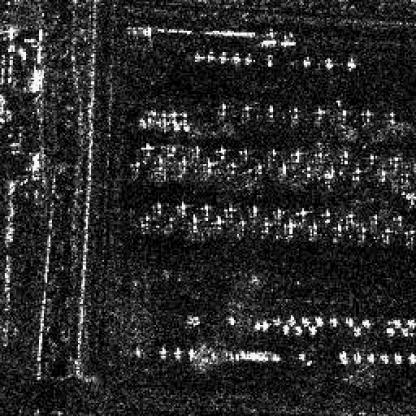airplane: (283, 219, 297, 239), (138, 143, 156, 156), (136, 213, 154, 226), (152, 158, 166, 174), (320, 166, 336, 180), (330, 223, 344, 239), (266, 102, 278, 120), (240, 104, 254, 119), (214, 146, 228, 161), (386, 154, 400, 169), (249, 202, 260, 220), (356, 223, 370, 237), (379, 228, 393, 242), (367, 151, 382, 164), (307, 223, 322, 236), (369, 211, 382, 226), (203, 160, 215, 176), (237, 218, 249, 234), (402, 229, 414, 245), (252, 162, 265, 176), (213, 213, 226, 227), (294, 205, 307, 219), (318, 208, 332, 221), (263, 52, 275, 67), (224, 203, 236, 218), (242, 52, 255, 65), (128, 158, 142, 170), (176, 158, 188, 172), (343, 212, 357, 224), (393, 214, 405, 228), (224, 315, 238, 327), (202, 202, 212, 218), (346, 57, 358, 70), (315, 108, 327, 121), (290, 148, 302, 161), (166, 144, 177, 158), (322, 56, 334, 68), (385, 110, 397, 122), (238, 150, 250, 162), (175, 202, 187, 214), (361, 108, 372, 121), (304, 164, 315, 177), (260, 219, 271, 232), (218, 101, 228, 115), (268, 148, 278, 162), (340, 150, 350, 164), (352, 166, 362, 180), (170, 344, 180, 358), (301, 55, 312, 67), (288, 106, 299, 118), (377, 169, 387, 182), (274, 206, 284, 219), (193, 146, 202, 160), (228, 162, 237, 176), (338, 351, 349, 362), (218, 50, 228, 62), (152, 202, 162, 214), (164, 216, 174, 228), (158, 346, 168, 358), (338, 109, 348, 120), (351, 351, 361, 362), (231, 50, 240, 62), (280, 160, 289, 172), (186, 346, 194, 359), (378, 354, 388, 364), (393, 354, 403, 364), (260, 320, 268, 332), (383, 326, 395, 334), (206, 49, 214, 60), (406, 353, 414, 364), (281, 323, 288, 335), (192, 213, 200, 223), (254, 322, 262, 332), (271, 317, 281, 325), (294, 325, 302, 335), (300, 315, 308, 325), (314, 314, 322, 324), (344, 315, 352, 325), (361, 317, 369, 327), (392, 318, 402, 326), (404, 318, 414, 326), (400, 328, 410, 336), (366, 352, 374, 362), (307, 325, 315, 333), (328, 317, 336, 325), (193, 54, 203, 60), (353, 325, 359, 335), (288, 316, 294, 324)
